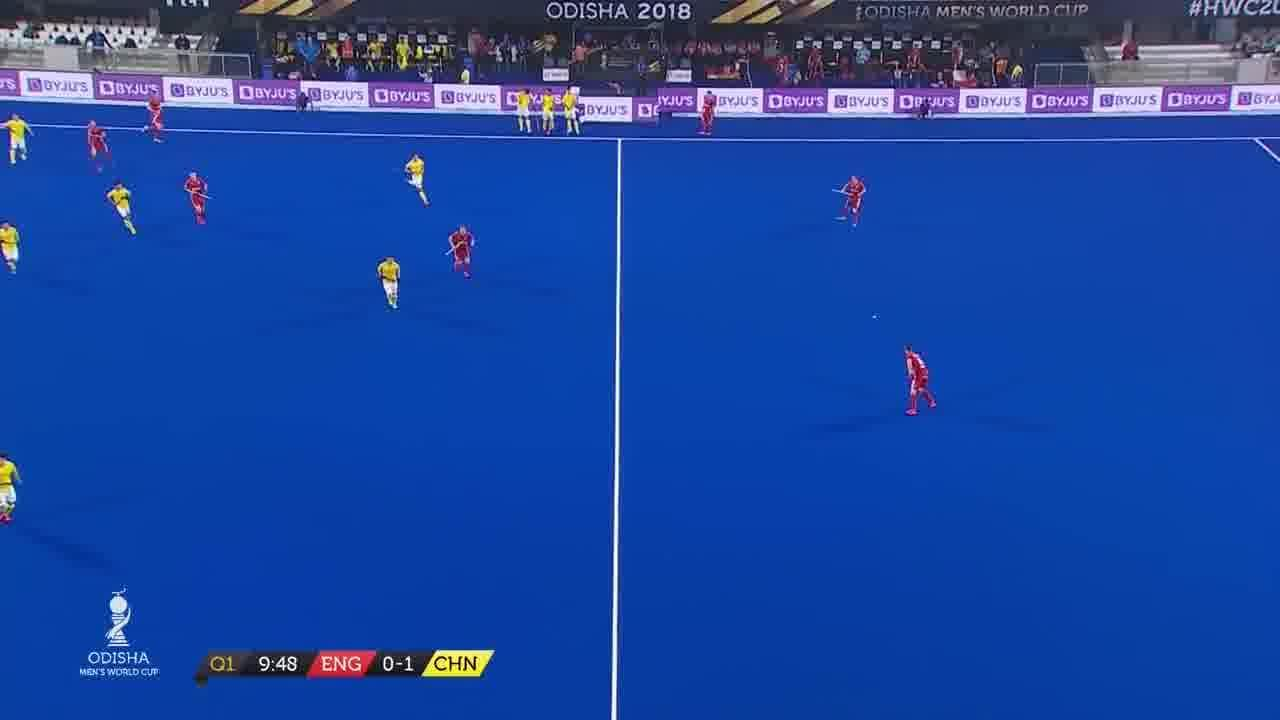ball: (866, 309, 884, 323)
